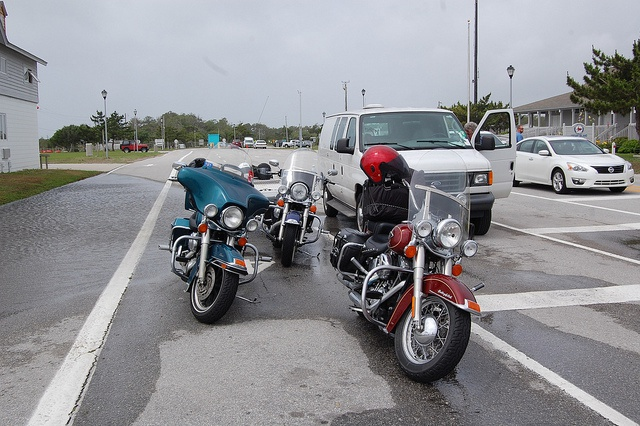non-vehicle: (329, 147, 485, 382), (158, 139, 278, 322), (261, 146, 340, 266)
